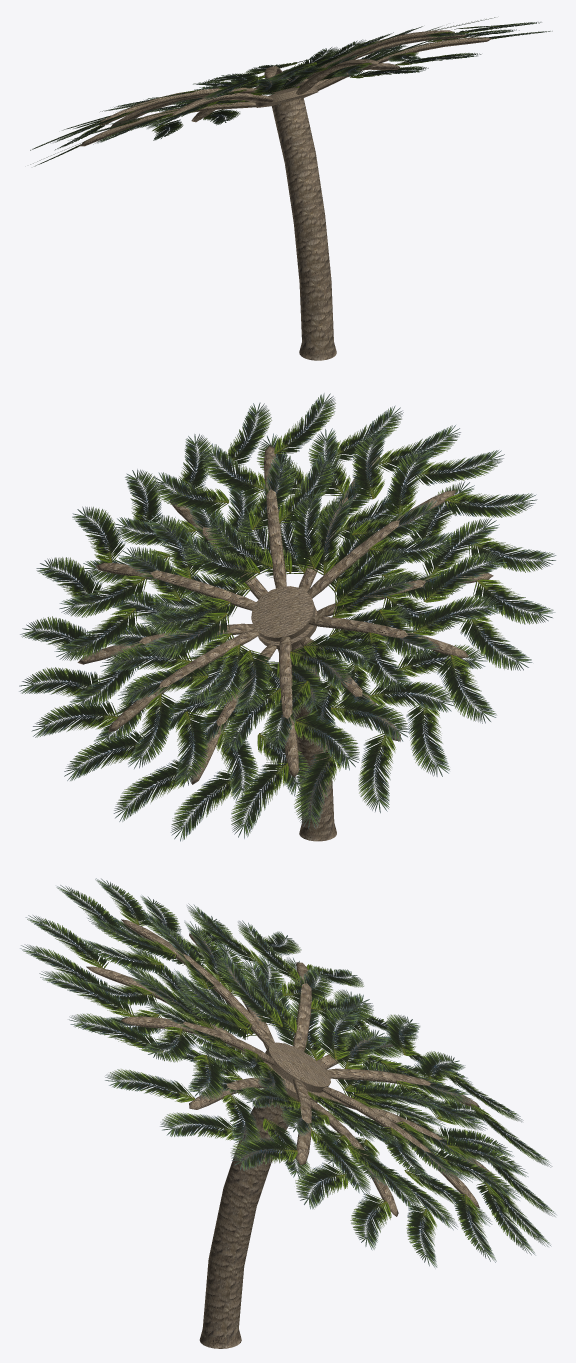
The model's file is Palm Tree.fbx.
3 views of the same model, one above another, from view 1: azimuth 30°, elevation 25°; view 2: azimuth 150°, elevation 25°; view 3: azimuth 270°, elevation 25° (orthographic). The views are drawn at different scales.
Visible parts, largest first — view 1: polySurface28; view 2: polySurface28; view 3: polySurface28.
Part boxes in pixels (left/top/right/bottom): polySurface28: left=30, top=17, right=552, bottom=360; polySurface28: left=19, top=393, right=556, bottom=841; polySurface28: left=20, top=878, right=556, bottom=1348.
Size of the model in its own units: 17.53 by 12.38 by 15.18.
Materials: 3 (3 with a texture image).
